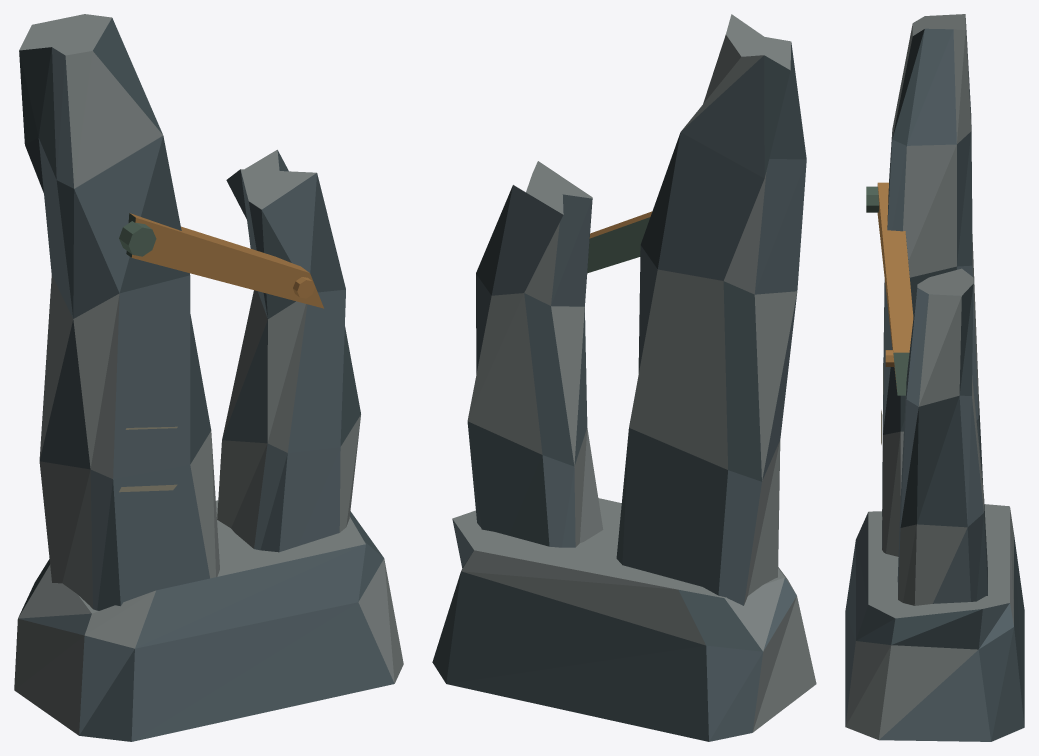
Rendered from west-bank-waymark.glb.
The picture shows the model from 3 angles, left to right: view 1: azimuth 30°, elevation 25°; view 2: azimuth 150°, elevation 25°; view 3: azimuth 270°, elevation 25°; orthographic projection. The views are drawn at different scales.
Parts seen in each view (by area): view 1: West Bank Waymark; view 2: West Bank Waymark; view 3: West Bank Waymark.
Part boxes in pixels (box(x1,y1,x2,y2)): West Bank Waymark: box(14, 14, 403, 741); West Bank Waymark: box(432, 14, 816, 741); West Bank Waymark: box(845, 14, 1024, 741).
Bounding box in the file's own units: 1.64 × 3.19 × 0.86.
